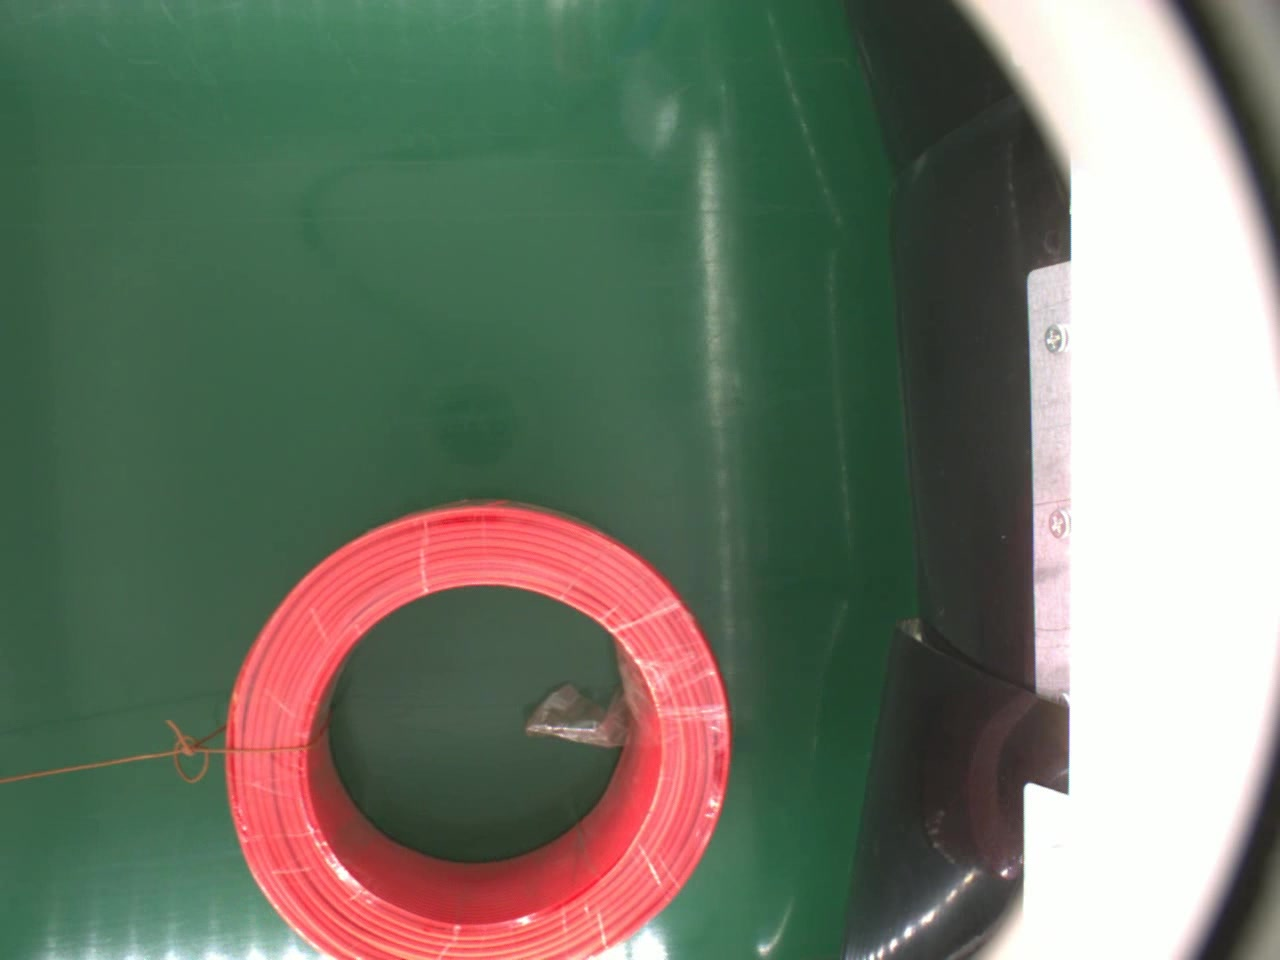red: (222, 495, 735, 957)
